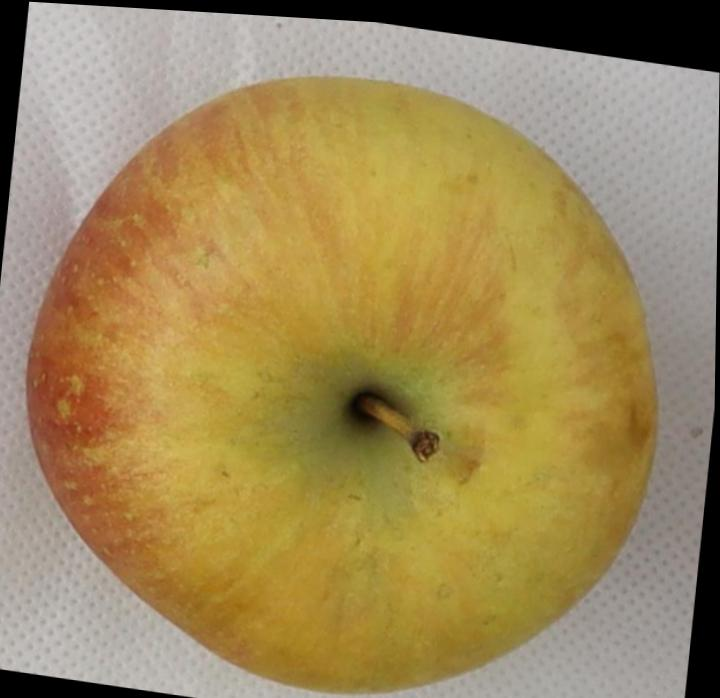apple: (28, 79, 658, 693)
